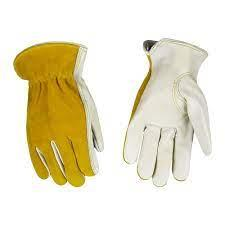Gloves: (118, 31, 222, 197), (11, 34, 111, 200)
